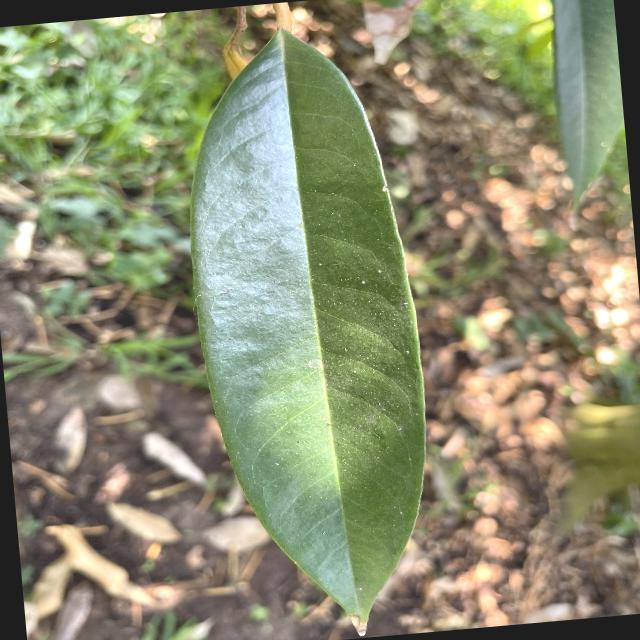No Disease: (165, 11, 452, 639)
